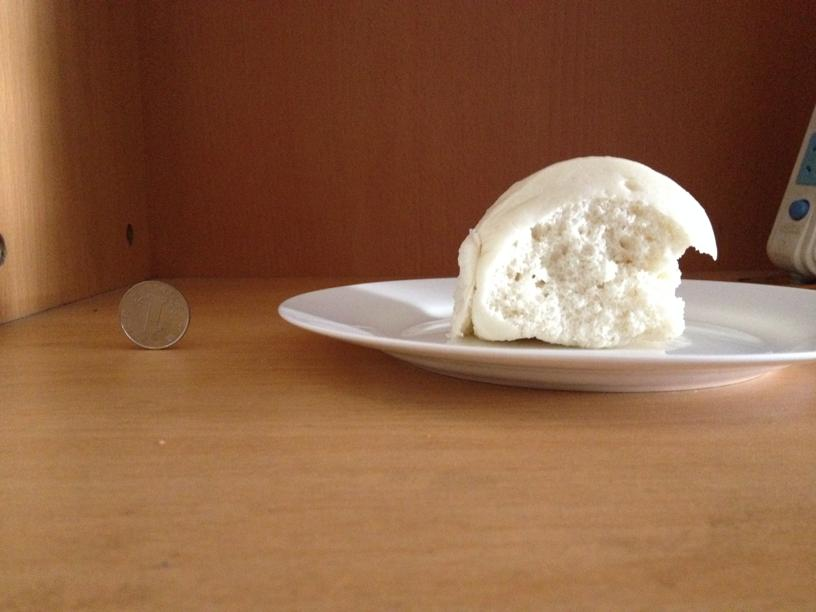bun: (458, 159, 704, 348)
coin: (117, 279, 188, 347)
